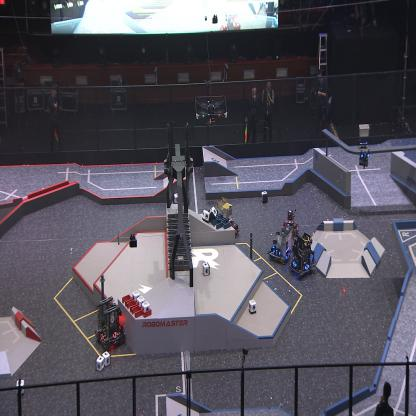car: (94, 296, 126, 350), (290, 234, 316, 280), (268, 223, 295, 266), (216, 201, 238, 237), (280, 209, 300, 240)
